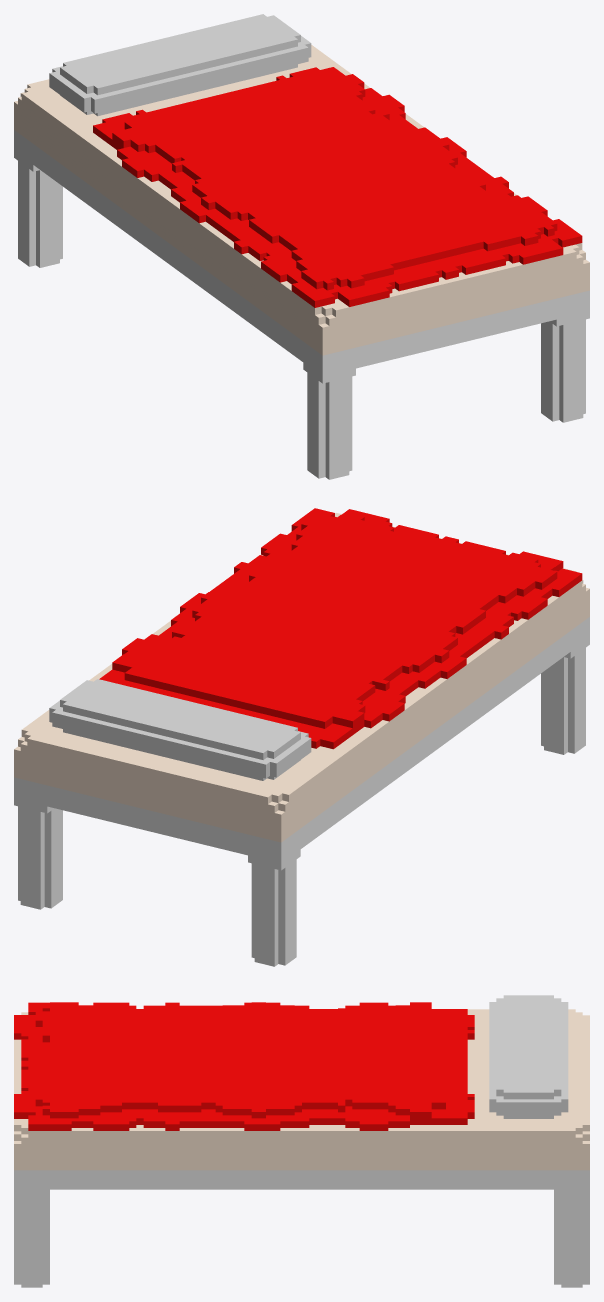
File: bed.obj
The picture shows the model from 3 angles, top to bottom: view 1: azimuth 30°, elevation 25°; view 2: azimuth 150°, elevation 25°; view 3: azimuth 270°, elevation 25°; orthographic projection. The views are drawn at different scales.
Size of the model in its own units: 4 by 2.8 by 8.
Materials: 1 (1 with a texture image).
